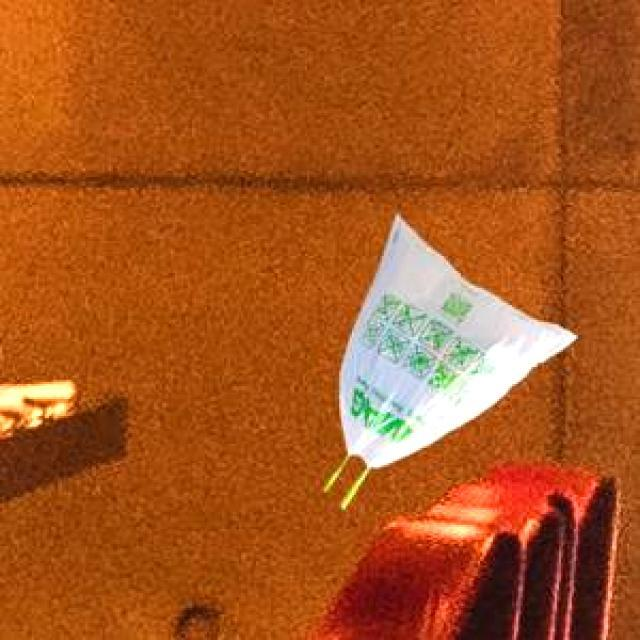Plastic_Bag: (338, 212, 573, 505)
